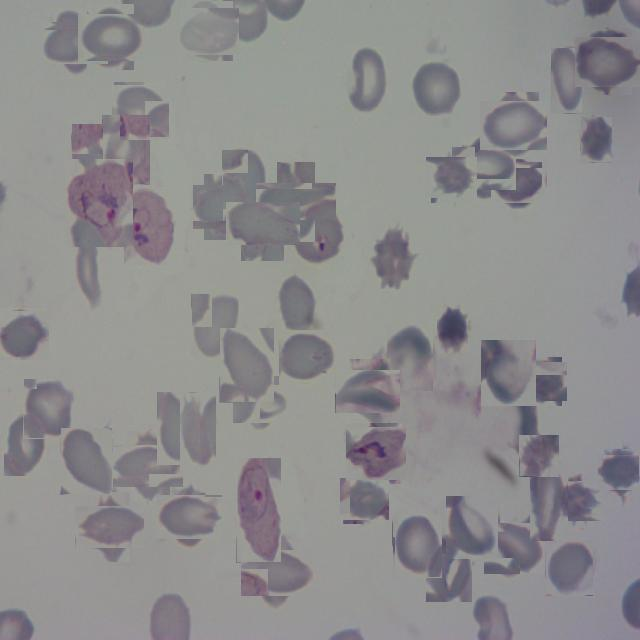leukocyte: (219, 328, 274, 403), (481, 340, 536, 406), (266, 172, 326, 232), (60, 428, 112, 495), (233, 194, 292, 253), (248, 542, 306, 602), (485, 96, 543, 154), (578, 33, 636, 91), (443, 499, 501, 557), (102, 115, 150, 185), (191, 294, 239, 362), (392, 514, 442, 578), (82, 9, 139, 65), (120, 438, 176, 494), (486, 520, 542, 576), (81, 498, 137, 554), (410, 59, 462, 119), (46, 15, 102, 70), (344, 46, 388, 116), (199, 179, 254, 235), (157, 392, 199, 465), (387, 325, 433, 391), (279, 329, 334, 384), (112, 84, 168, 138), (340, 364, 396, 418), (23, 379, 73, 439), (456, 142, 511, 196), (162, 490, 217, 544), (530, 465, 568, 541), (183, 4, 236, 58), (180, 393, 217, 470), (426, 541, 472, 602), (545, 540, 593, 597), (370, 226, 414, 288), (4, 413, 47, 476), (72, 124, 112, 190), (222, 150, 266, 210), (277, 274, 317, 336), (494, 158, 544, 207), (74, 232, 107, 306), (236, 380, 284, 428), (0, 309, 47, 358), (552, 478, 599, 524), (341, 476, 387, 522), (429, 154, 475, 200), (550, 48, 582, 114), (520, 359, 564, 404), (519, 435, 559, 477), (601, 452, 640, 494), (438, 307, 470, 354), (580, 117, 612, 163)
schizont: (65, 159, 133, 247), (236, 458, 281, 563), (124, 187, 174, 265), (347, 425, 404, 482)
